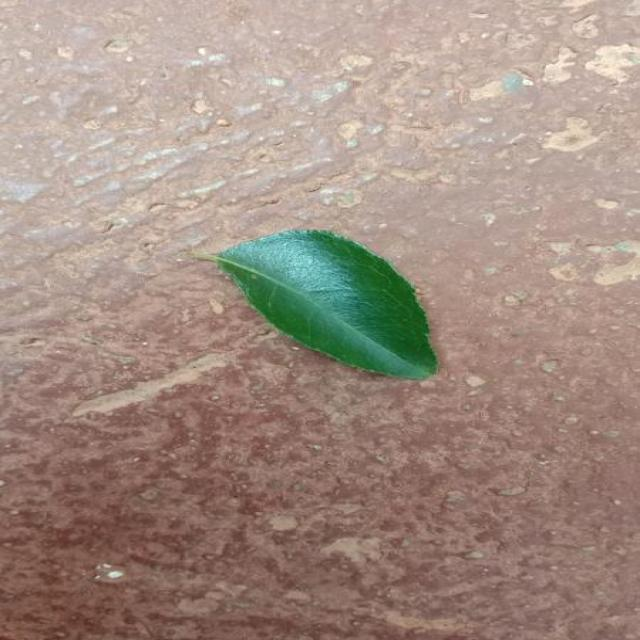curry: (198, 230, 438, 379)
